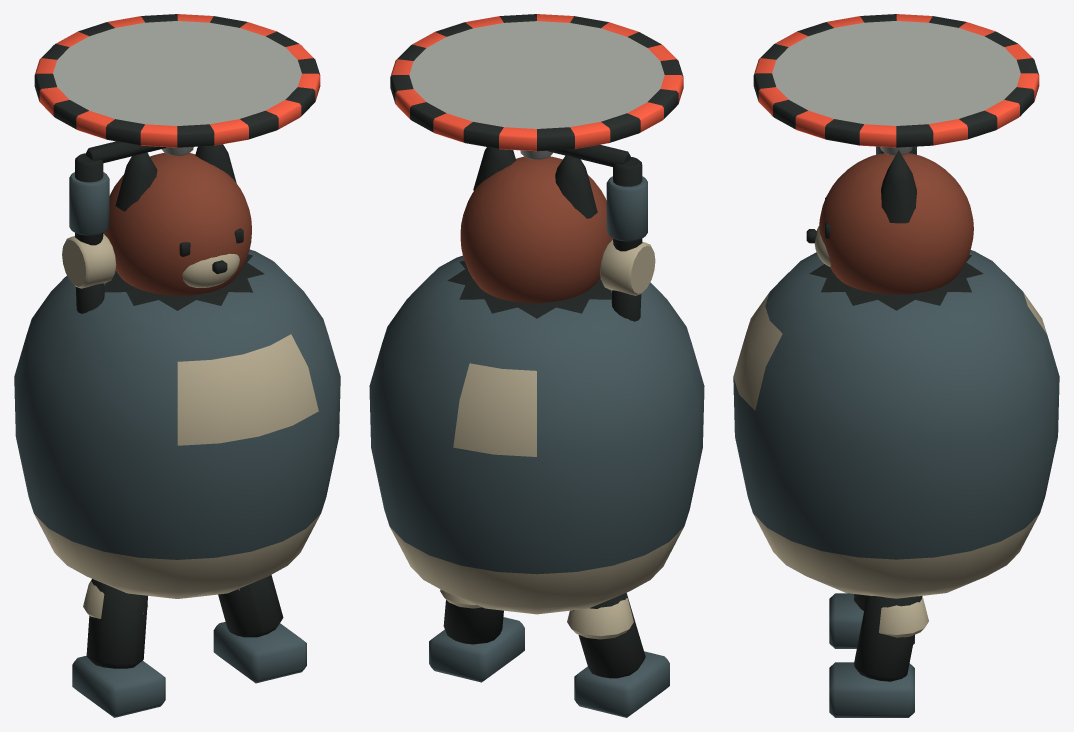
The model's file is enemy_line_cutter.glb.
The picture shows the model from 3 angles, left to right: view 1: azimuth 30°, elevation 25°; view 2: azimuth 150°, elevation 25°; view 3: azimuth 270°, elevation 25°; orthographic projection. The views are drawn at different scales.
Parts seen in each view (by area): view 1: CutterCrewBody, CutterDisc, ThrowArm; view 2: CutterCrewBody, CutterDisc, ThrowArm; view 3: CutterCrewBody, CutterDisc.
Part boxes in pixels (x1=…): CutterCrewBody: x1=14, y1=144, x2=340, y2=717; CutterDisc: x1=34, y1=14, x2=320, y2=147; ThrowArm: x1=62, y1=141, x2=193, y2=313; CutterCrewBody: x1=369, y1=147, x2=704, y2=717; CutterDisc: x1=390, y1=14, x2=683, y2=151; ThrowArm: x1=520, y1=144, x2=655, y2=321; CutterCrewBody: x1=733, y1=146, x2=1059, y2=717; CutterDisc: x1=753, y1=14, x2=1039, y2=147.
Size of the model in its own units: 1.6 by 3.24 by 1.6.
